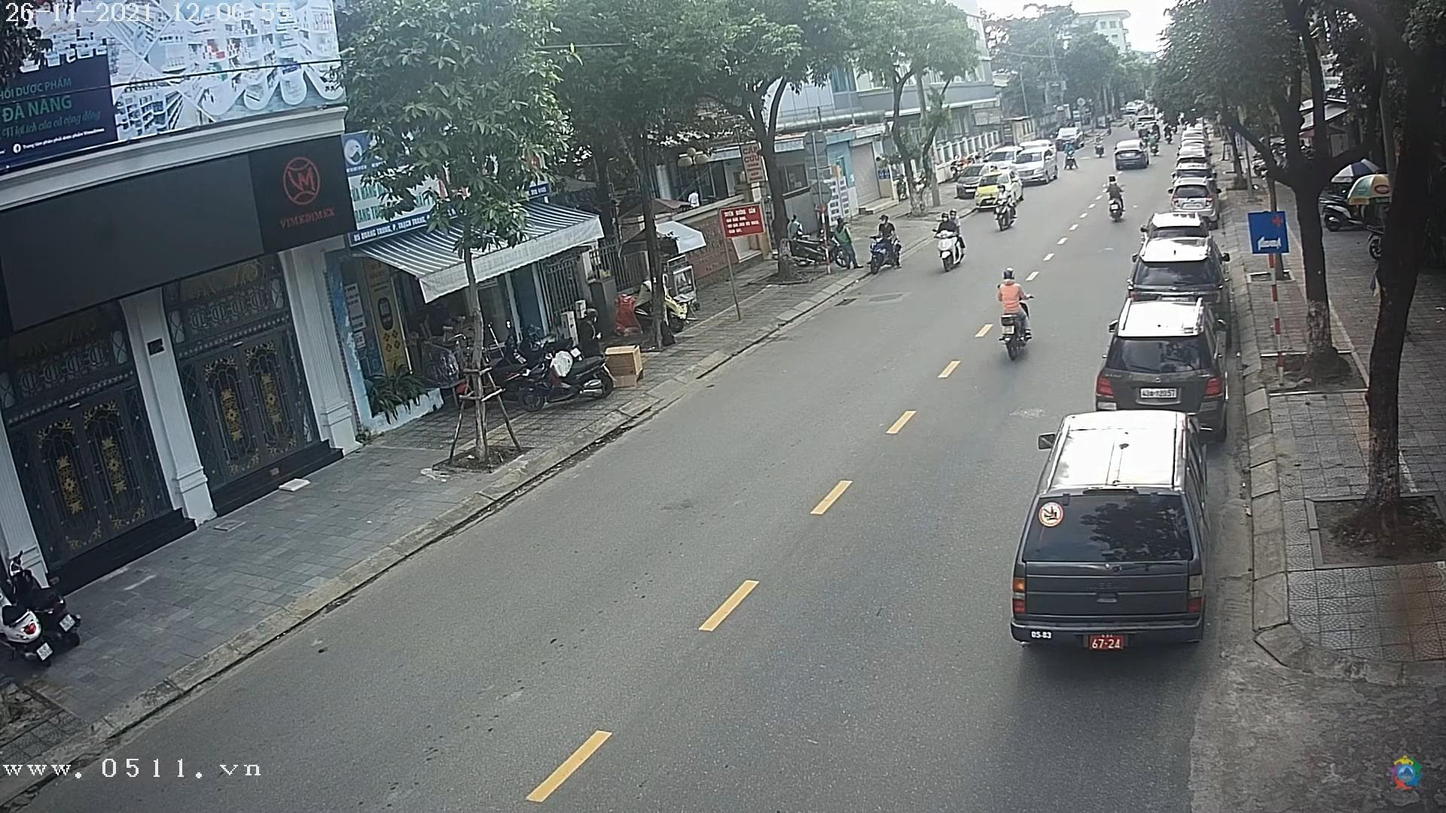car: (1014, 412, 1208, 651), (1094, 301, 1228, 420), (1129, 238, 1229, 300), (1167, 184, 1213, 212), (1169, 166, 1214, 190), (1117, 148, 1153, 171)
motorbike: (999, 300, 1036, 359), (935, 228, 968, 276)
